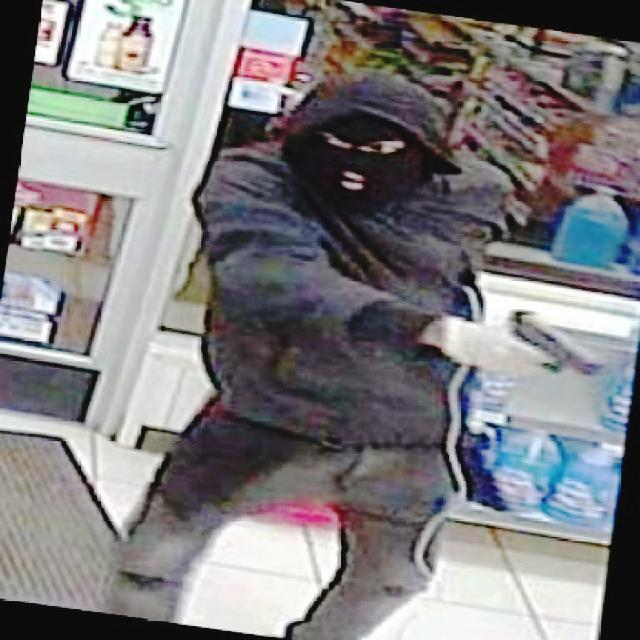Gun: (507, 304, 602, 394)
